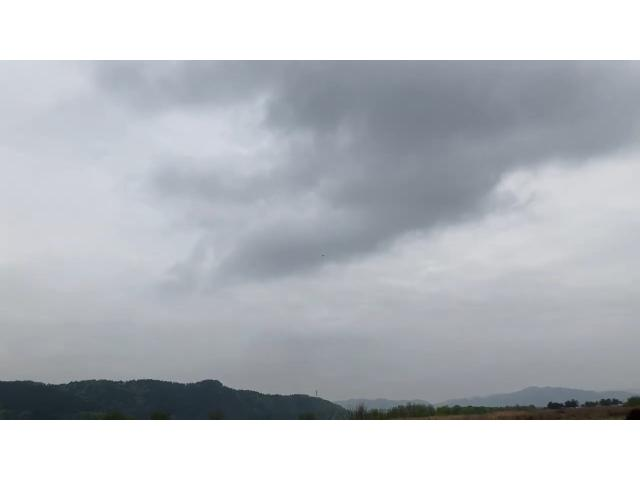Anti-Drone: (316, 250, 332, 262)
